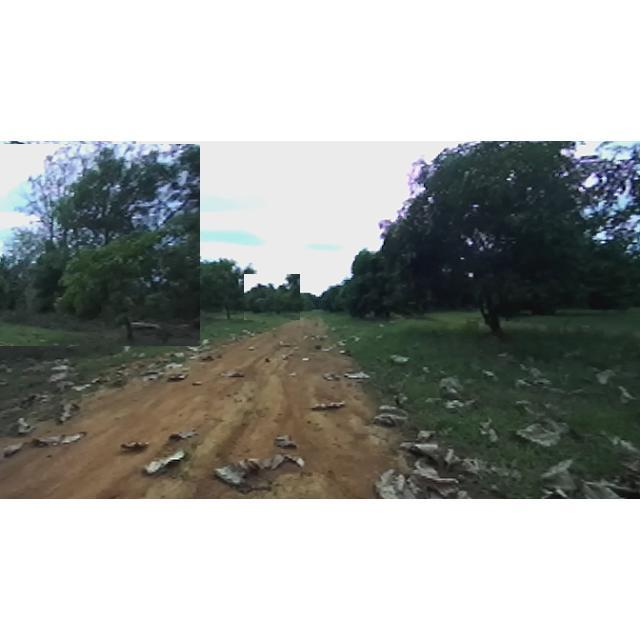direk: (335, 142, 639, 336), (0, 144, 200, 346), (340, 246, 430, 324), (185, 252, 268, 324), (244, 274, 300, 320), (318, 278, 354, 316)
